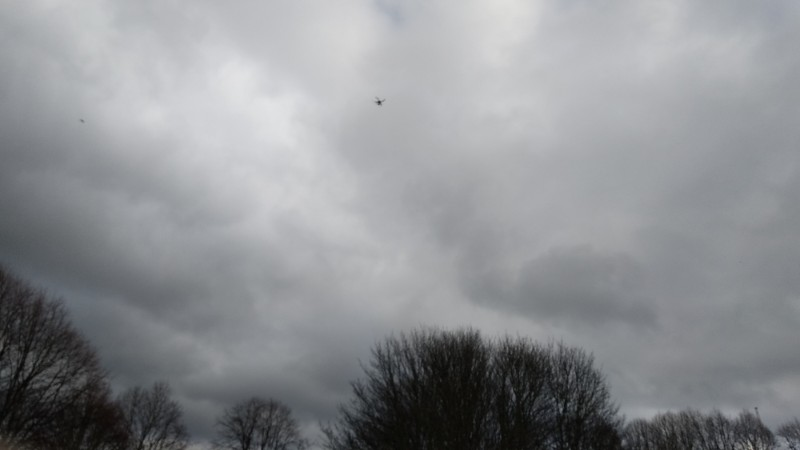drone: (372, 96, 387, 109)
